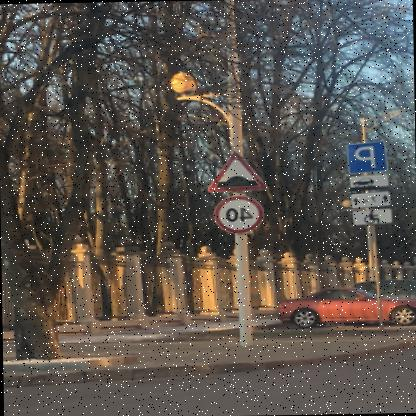speedlimit: (214, 194, 266, 233)
